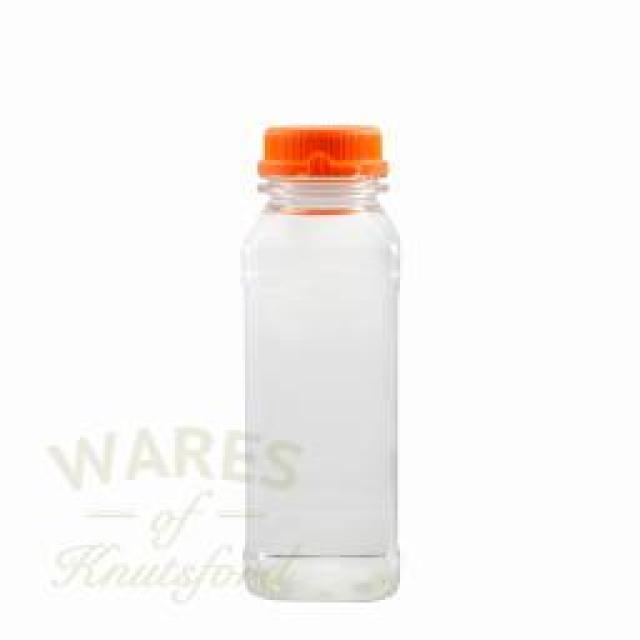bottle: (239, 125, 404, 602)
